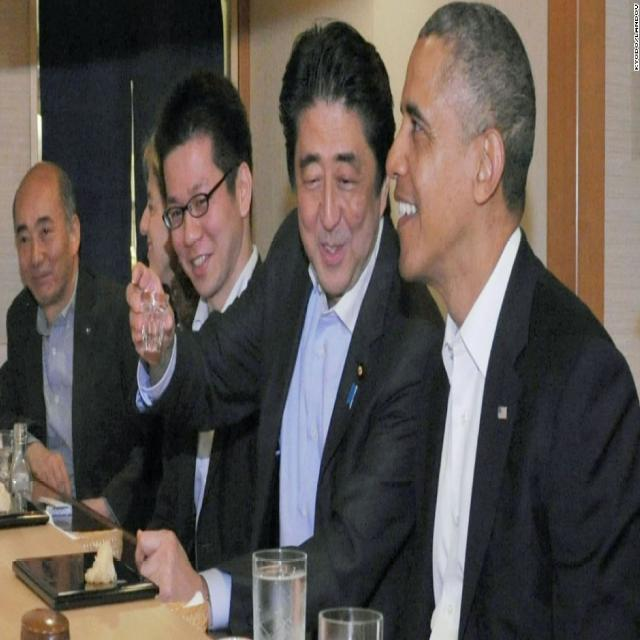body: (121, 18, 451, 639), (365, 0, 639, 639), (107, 98, 265, 639), (102, 61, 266, 578), (0, 158, 164, 536)
